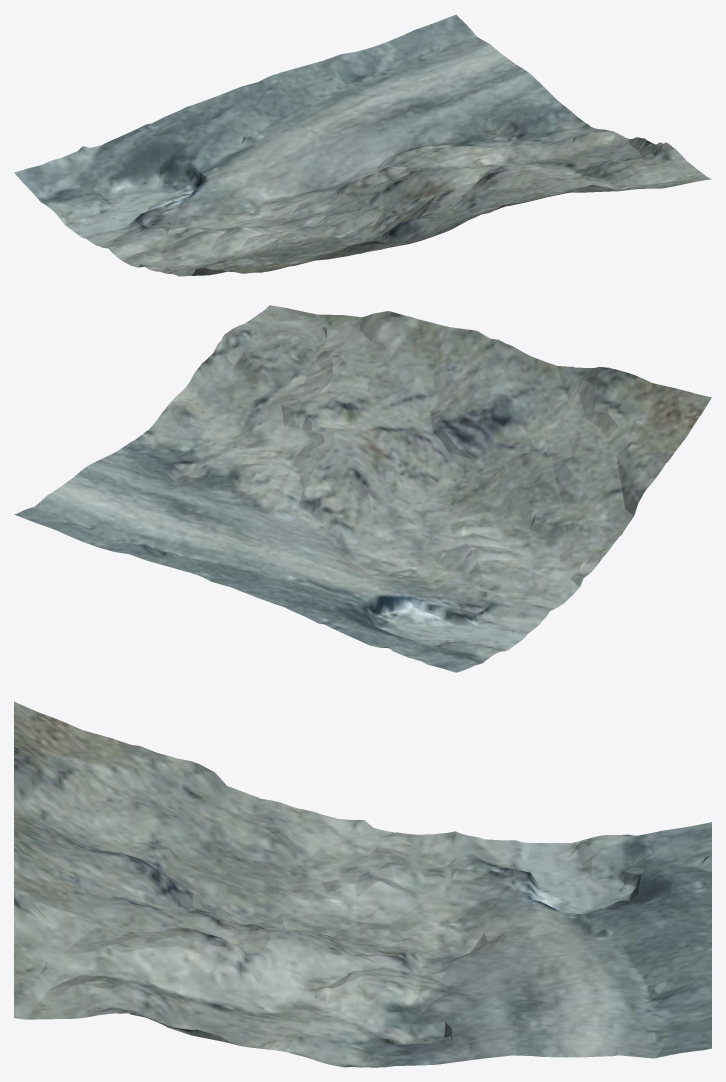
The picture shows the model from 3 angles, top to bottom: view 1: azimuth 30°, elevation 25°; view 2: azimuth 150°, elevation 25°; view 3: azimuth 270°, elevation 25°; orthographic projection. The views are drawn at different scales.
Visible parts, largest first — view 1: Plane; view 2: Plane; view 3: Plane.
Boxes of the visible parts, x1=… form: Plane: x1=14, y1=14, x2=711, y2=276; Plane: x1=14, y1=305, x2=711, y2=672; Plane: x1=14, y1=701, x2=711, y2=1067.
Size of the model in its own units: 0.5 by 0.1221 by 0.5.
Materials: 1 (1 with a texture image).
